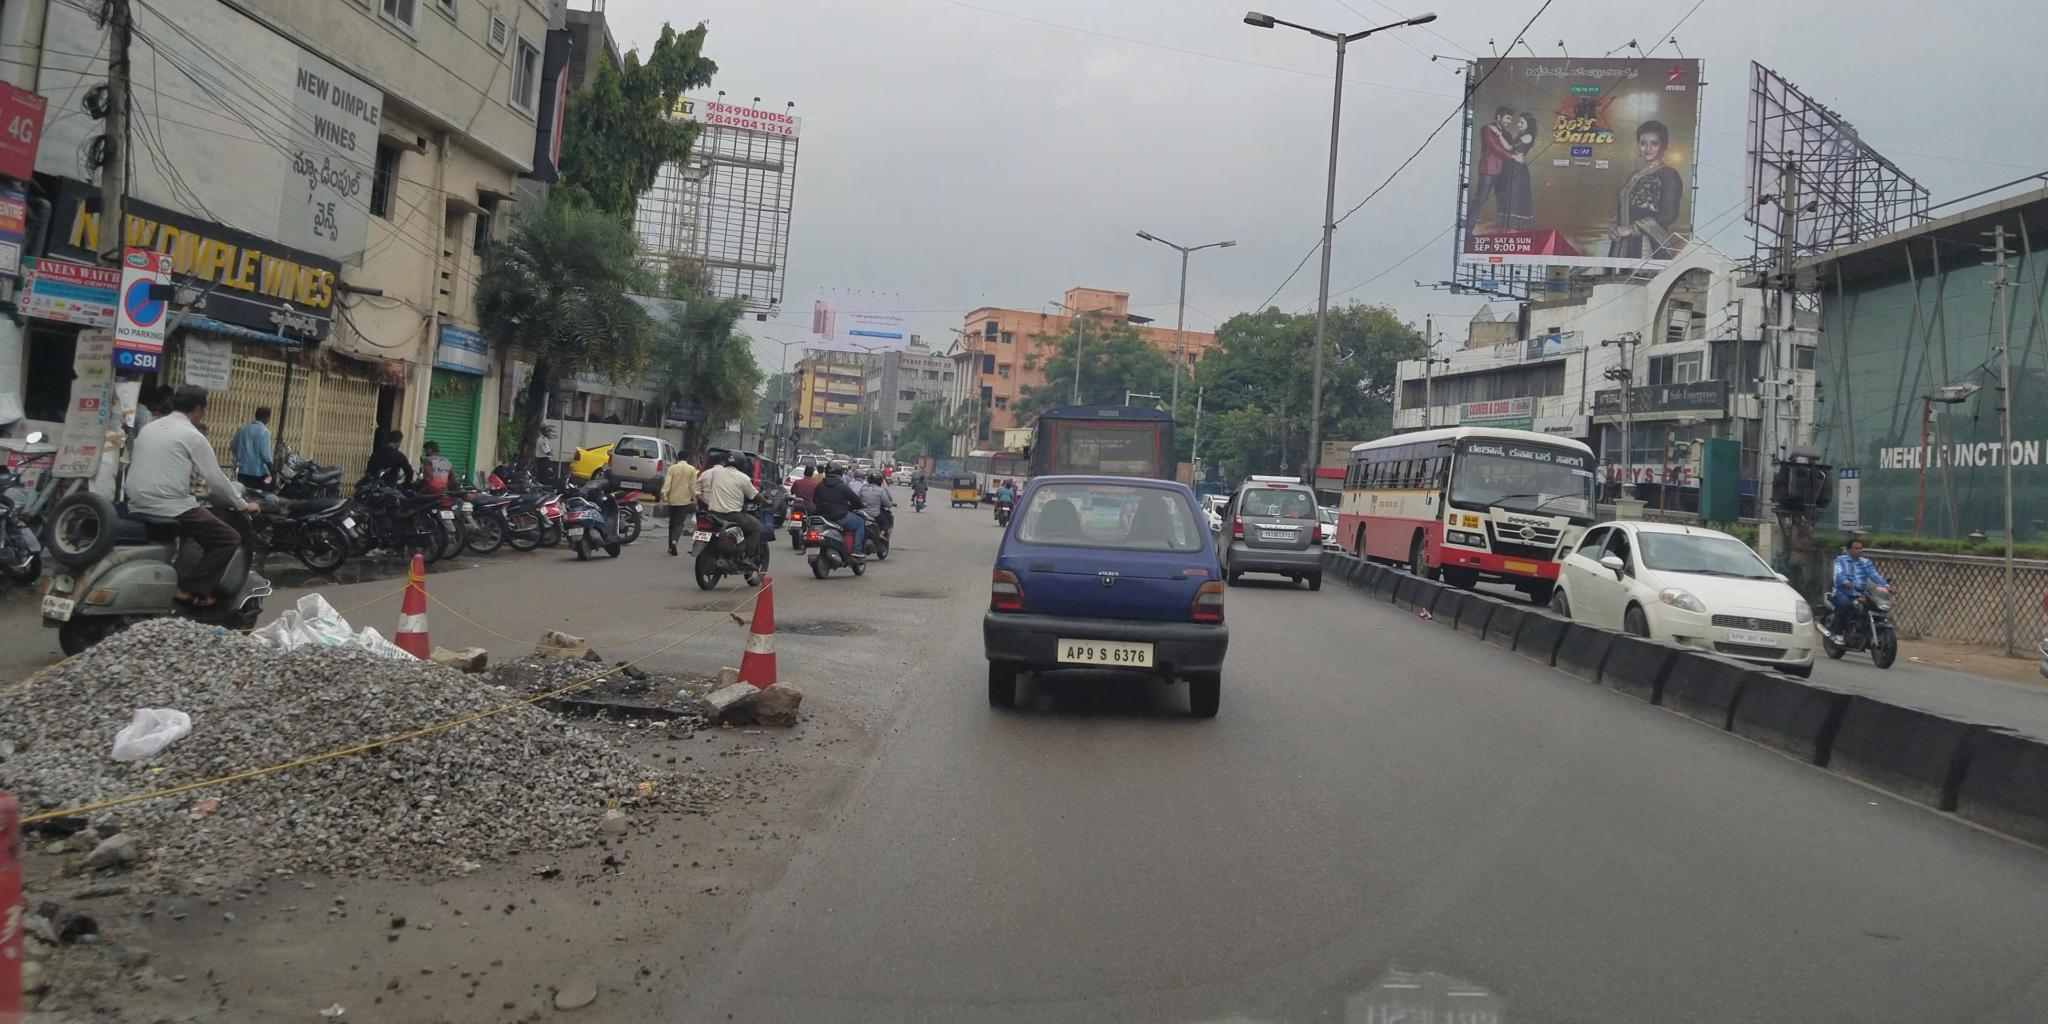off: (210, 72, 2048, 1024)
